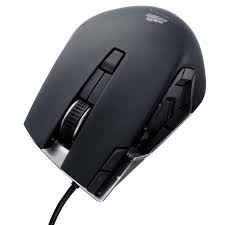mouse: (20, 8, 206, 200)
